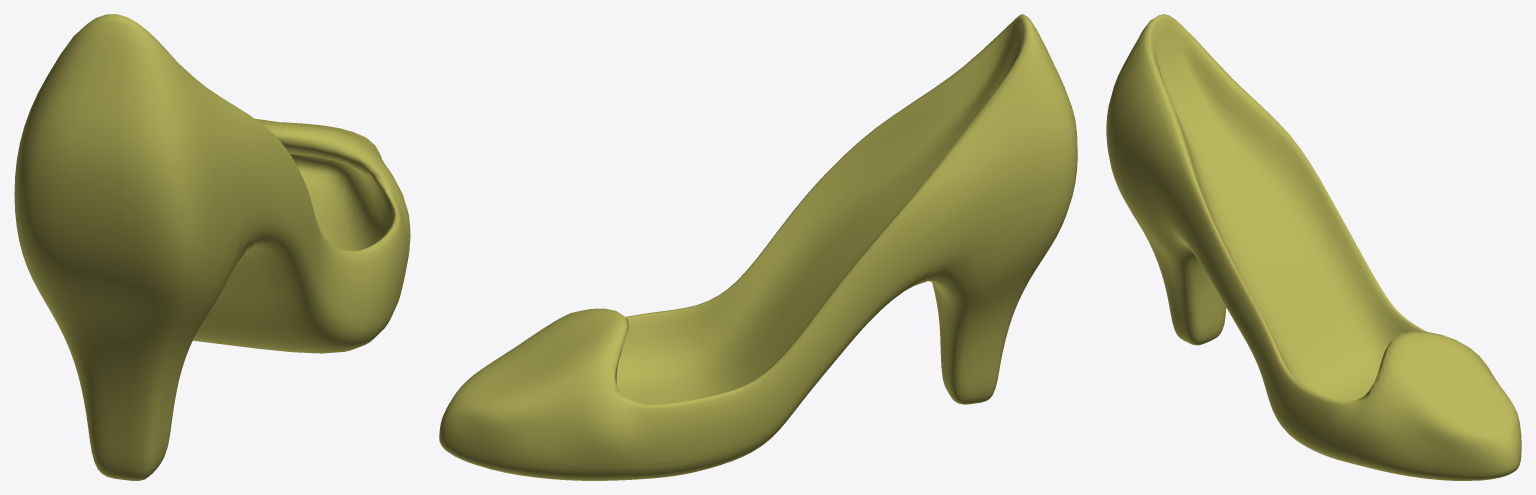
The model's file is Heel3.fbx.
The picture shows the model from 3 angles, left to right: view 1: azimuth 30°, elevation 25°; view 2: azimuth 150°, elevation 25°; view 3: azimuth 270°, elevation 25°; orthographic projection. The views are drawn at different scales.
Visible parts, largest first — view 1: HeelRightNOBOW2; view 2: HeelRightNOBOW2; view 3: HeelRightNOBOW2.
Boxes of the visible parts, x1,y1,x2,y2 form: HeelRightNOBOW2: (14, 14, 410, 480); HeelRightNOBOW2: (439, 14, 1077, 480); HeelRightNOBOW2: (1106, 14, 1521, 480).
Bounding box in the file's own units: 2.85 × 2.41 × 2.78.
